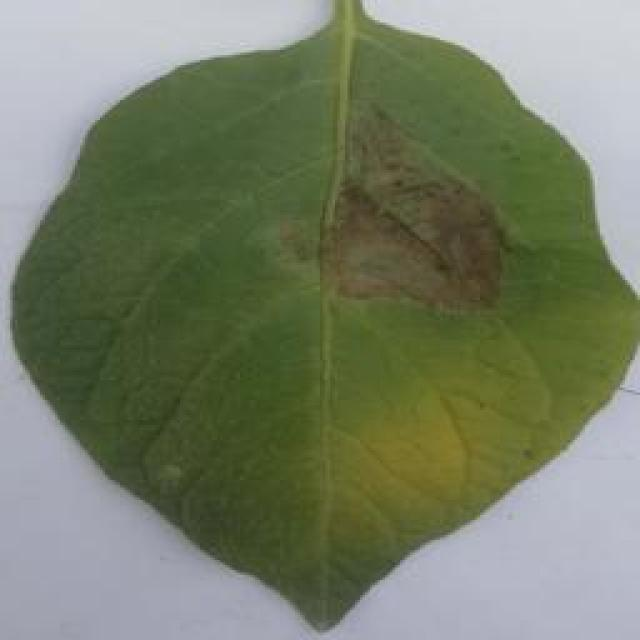Potato_Late_Blight: (10, 10, 627, 631)
